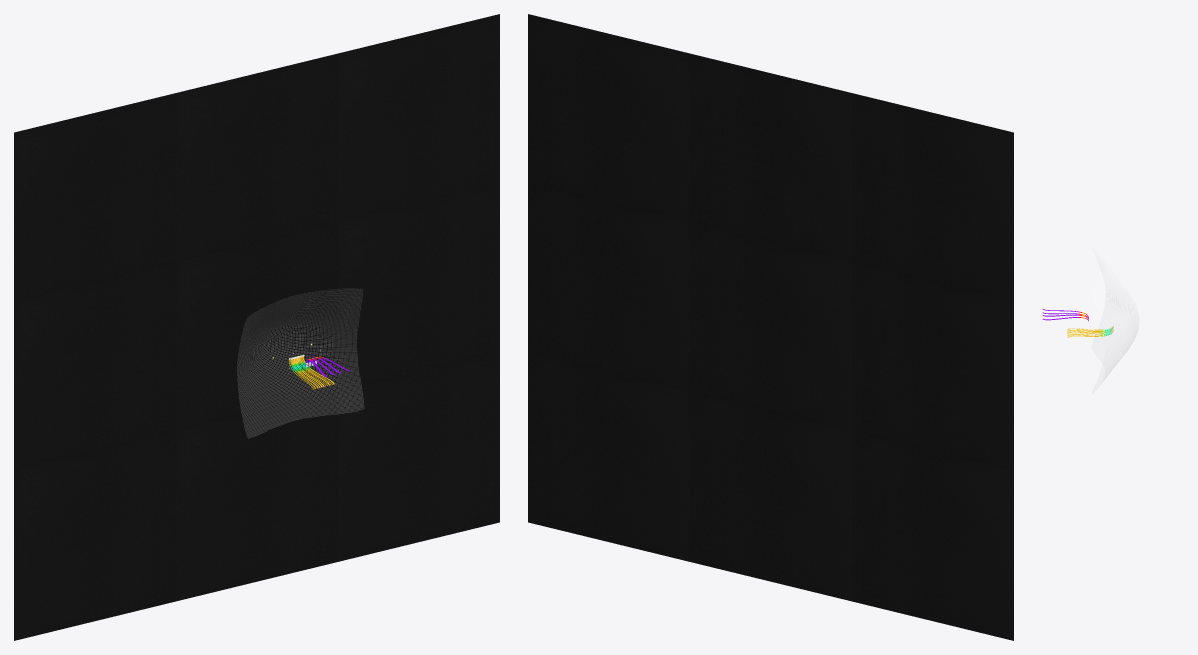
File: Head_scene.glb
The picture shows the model from 3 angles, left to right: view 1: azimuth 30°, elevation 25°; view 2: azimuth 150°, elevation 25°; view 3: azimuth 270°, elevation 25°; orthographic projection. The views are drawn at different scales.
Parts seen in each view (by area): view 1: Plane.002, Plane.011; view 2: Plane.002; view 3: Plane.011.
Boxes of the visible parts, x1,y1,x2,y2 form: Plane.002: [14, 14, 499, 640]; Plane.011: [237, 289, 363, 435]; Plane.002: [528, 14, 1013, 640]; Plane.011: [1093, 258, 1139, 392].
Size of the model in its own units: 17.7 by 17.7 by 5.29.
9 materials, 9 textured.
